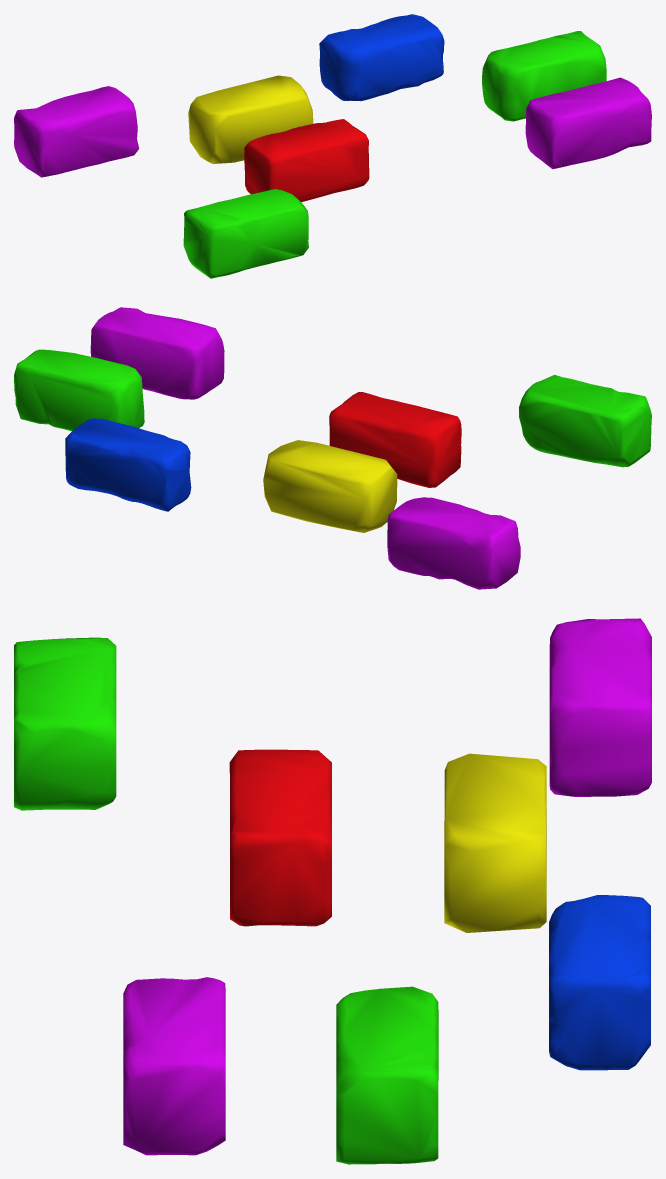
Rendered from sharp bricks pattern1.fbx.
3 views of the same model, one above another, from view 1: azimuth 30°, elevation 25°; view 2: azimuth 150°, elevation 25°; view 3: azimuth 270°, elevation 25° (orthographic). The views are drawn at different scales.
Parts seen in each view (by area): view 1: brick 1.002; view 2: brick 1.002; view 3: brick 1.002.
Boxes of the visible parts, x1=… form: brick 1.002: x1=14, y1=14, x2=651, y2=278; brick 1.002: x1=14, y1=307, x2=651, y2=589; brick 1.002: x1=14, y1=618, x2=651, y2=1164.
Bounding box in the file's own units: 200 × 20.67 × 119.
